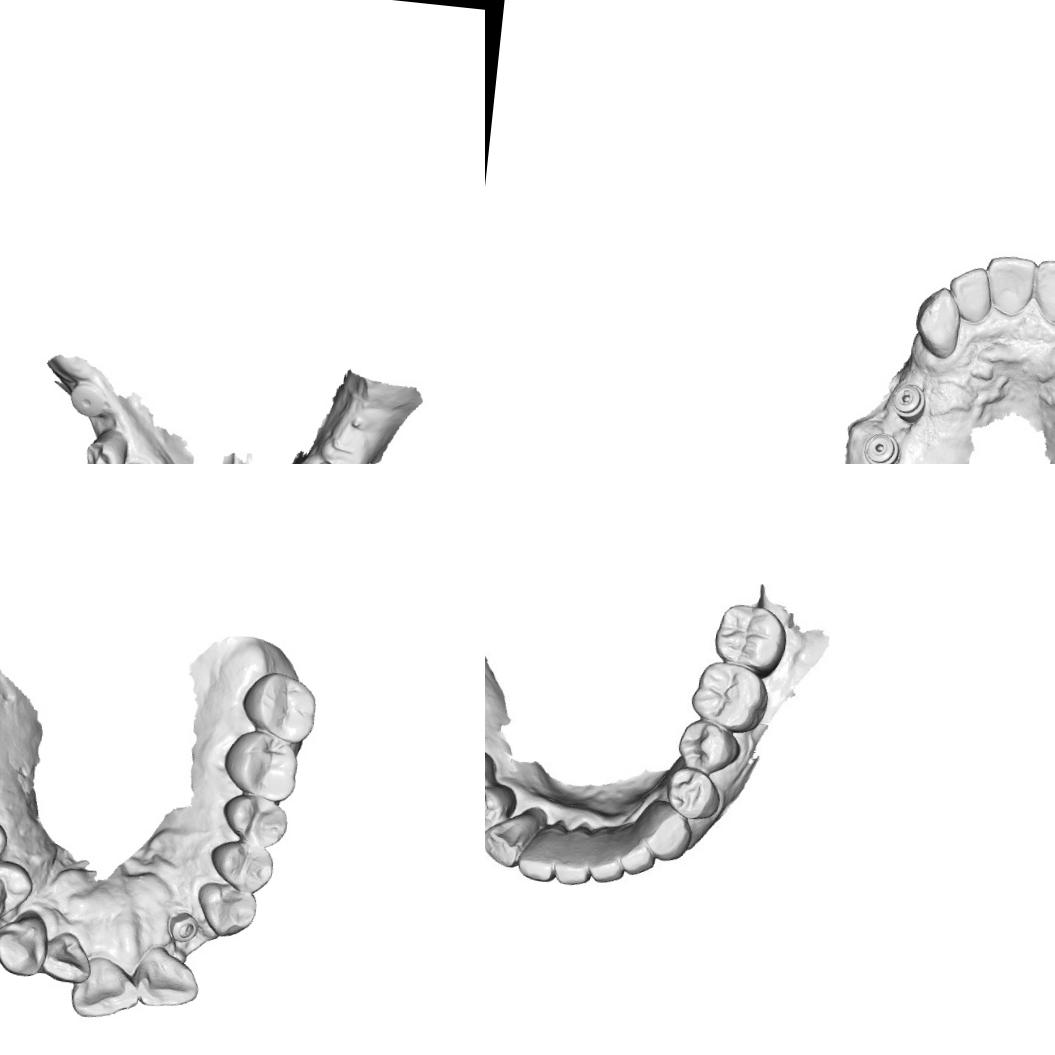canine: (192, 880, 260, 940), (912, 283, 964, 361), (0, 909, 51, 979), (635, 803, 693, 863), (485, 806, 537, 870)
implant: (66, 377, 108, 421), (860, 430, 903, 464), (164, 906, 201, 944)
implant_minus: (888, 382, 928, 426)
incisor: (129, 941, 203, 1012), (69, 954, 143, 1023), (982, 252, 1039, 320), (37, 928, 94, 986), (515, 821, 566, 883), (946, 264, 996, 326), (555, 822, 602, 885), (588, 826, 628, 882), (1030, 257, 1055, 326), (620, 826, 651, 875)
molar: (236, 668, 320, 746), (219, 727, 301, 804), (690, 660, 772, 736), (712, 600, 790, 673)
premolar: (218, 792, 292, 848), (205, 836, 276, 894), (674, 719, 746, 776), (664, 765, 727, 821), (0, 855, 35, 922), (485, 780, 518, 842), (80, 426, 130, 464), (485, 741, 499, 799)
